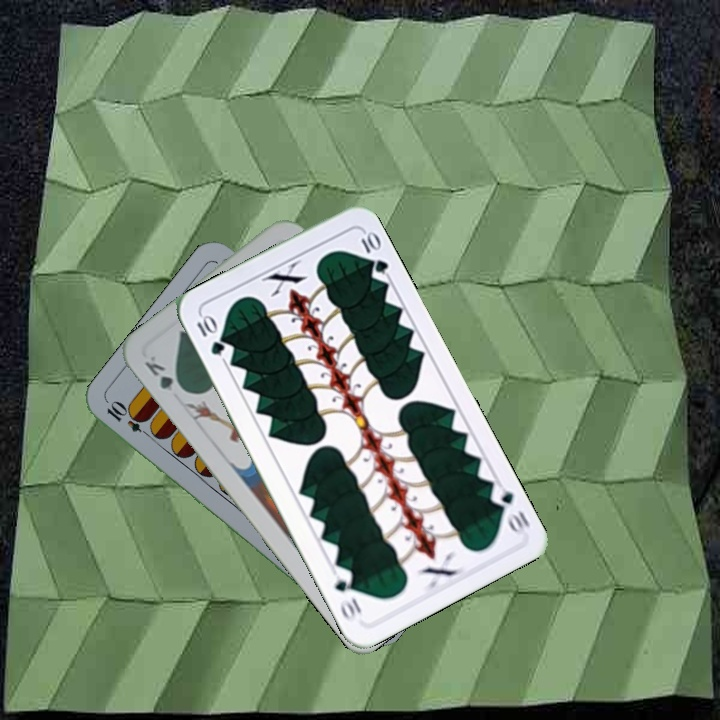E10: (102, 398, 156, 441)
G10: (486, 480, 533, 536), (192, 311, 228, 358)
GK: (140, 351, 189, 396)
